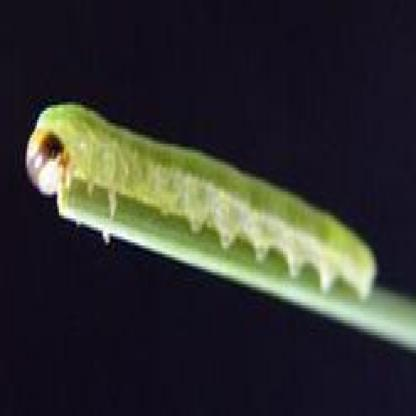sawfly: (22, 96, 384, 310)
